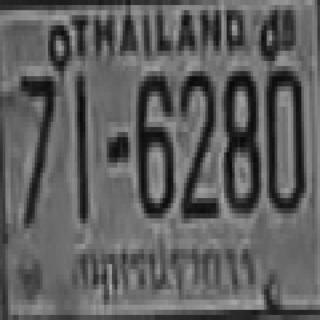N00: (264, 66, 304, 208)
N01: (75, 71, 85, 218)
N02: (179, 66, 216, 213)
N06: (135, 71, 172, 213)
N07: (19, 71, 53, 224)
N08: (221, 66, 259, 208)
P57: (71, 239, 260, 302)
